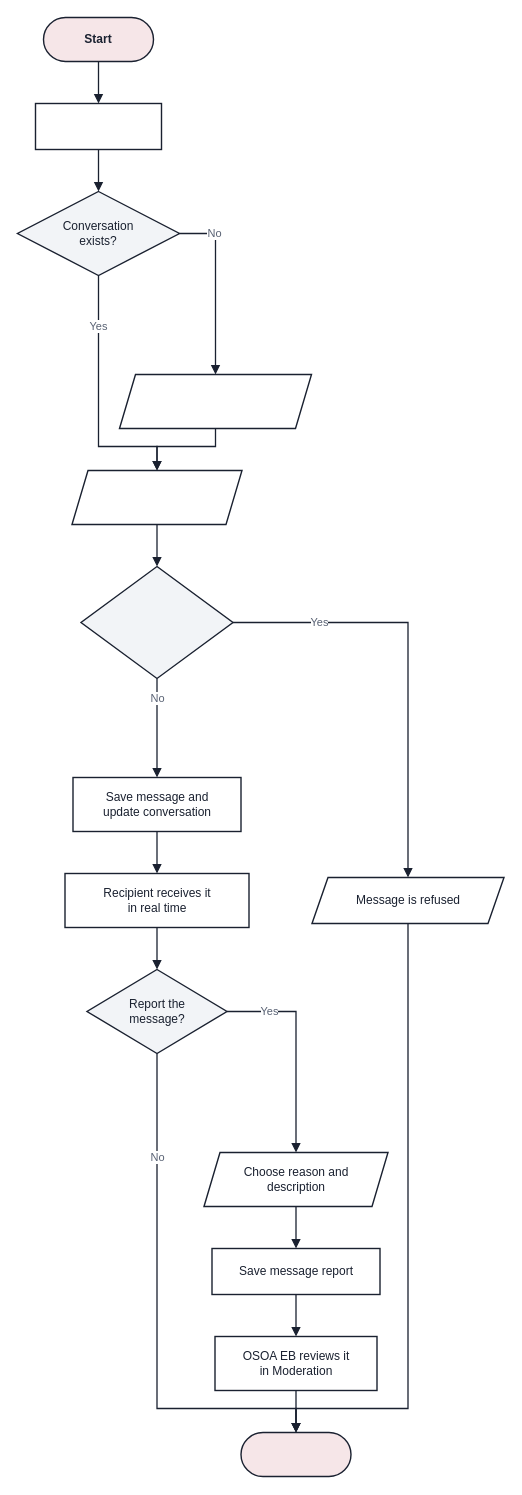
This 522x1495 diagram has some shape labels left out. Each missing label, with the box of its shape:
Either user blocked the other?: (80, 565, 233, 679)
End: (240, 1431, 351, 1477)
Open Messages: (34, 102, 162, 150)
Search account and start conversation: (118, 373, 312, 429)
Type message or attach file: (71, 469, 242, 525)
